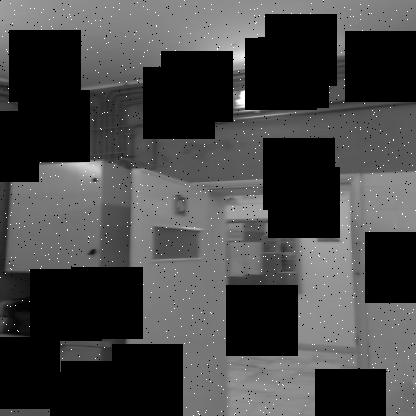Porte: (123, 165, 373, 416)
